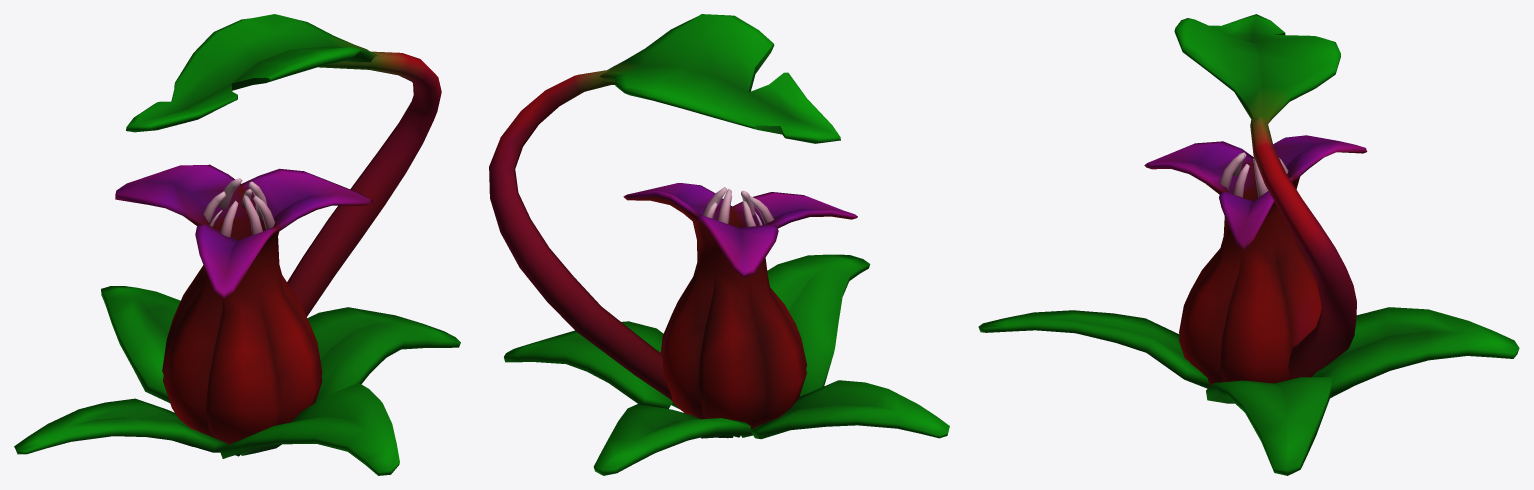
File: Plant_4.fbx
The picture shows the model from 3 angles, left to right: view 1: azimuth 30°, elevation 25°; view 2: azimuth 150°, elevation 25°; view 3: azimuth 270°, elevation 25°; orthographic projection. The views are drawn at different scales.
Visible parts, largest first — view 1: Plant_4; view 2: Plant_4; view 3: Plant_4.
Part boxes in pixels (bbox=[...]): Plant_4: bbox=[14, 14, 460, 475]; Plant_4: bbox=[489, 14, 949, 475]; Plant_4: bbox=[978, 14, 1519, 475].
Bounding box in the file's own units: 6.1 × 5.3 × 6.49.
